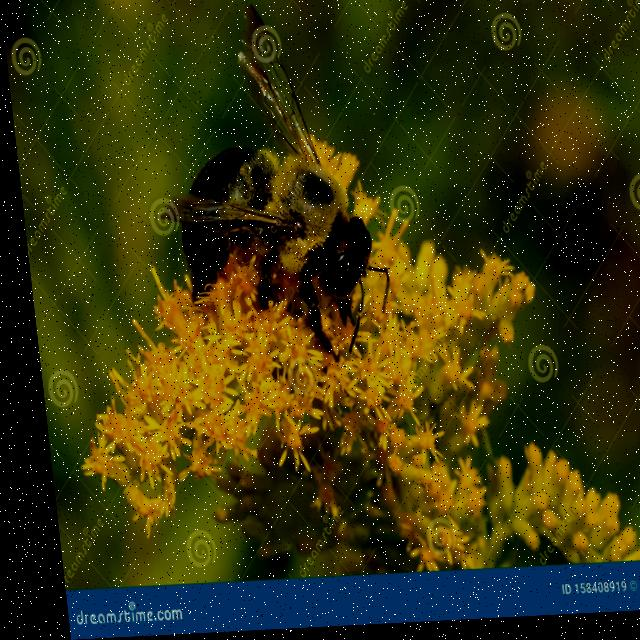Meliponula: (127, 13, 401, 360)
